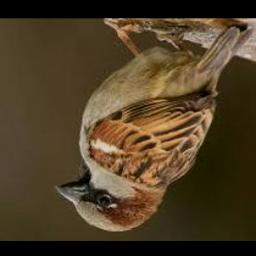Sparrow: (54, 22, 254, 232)
